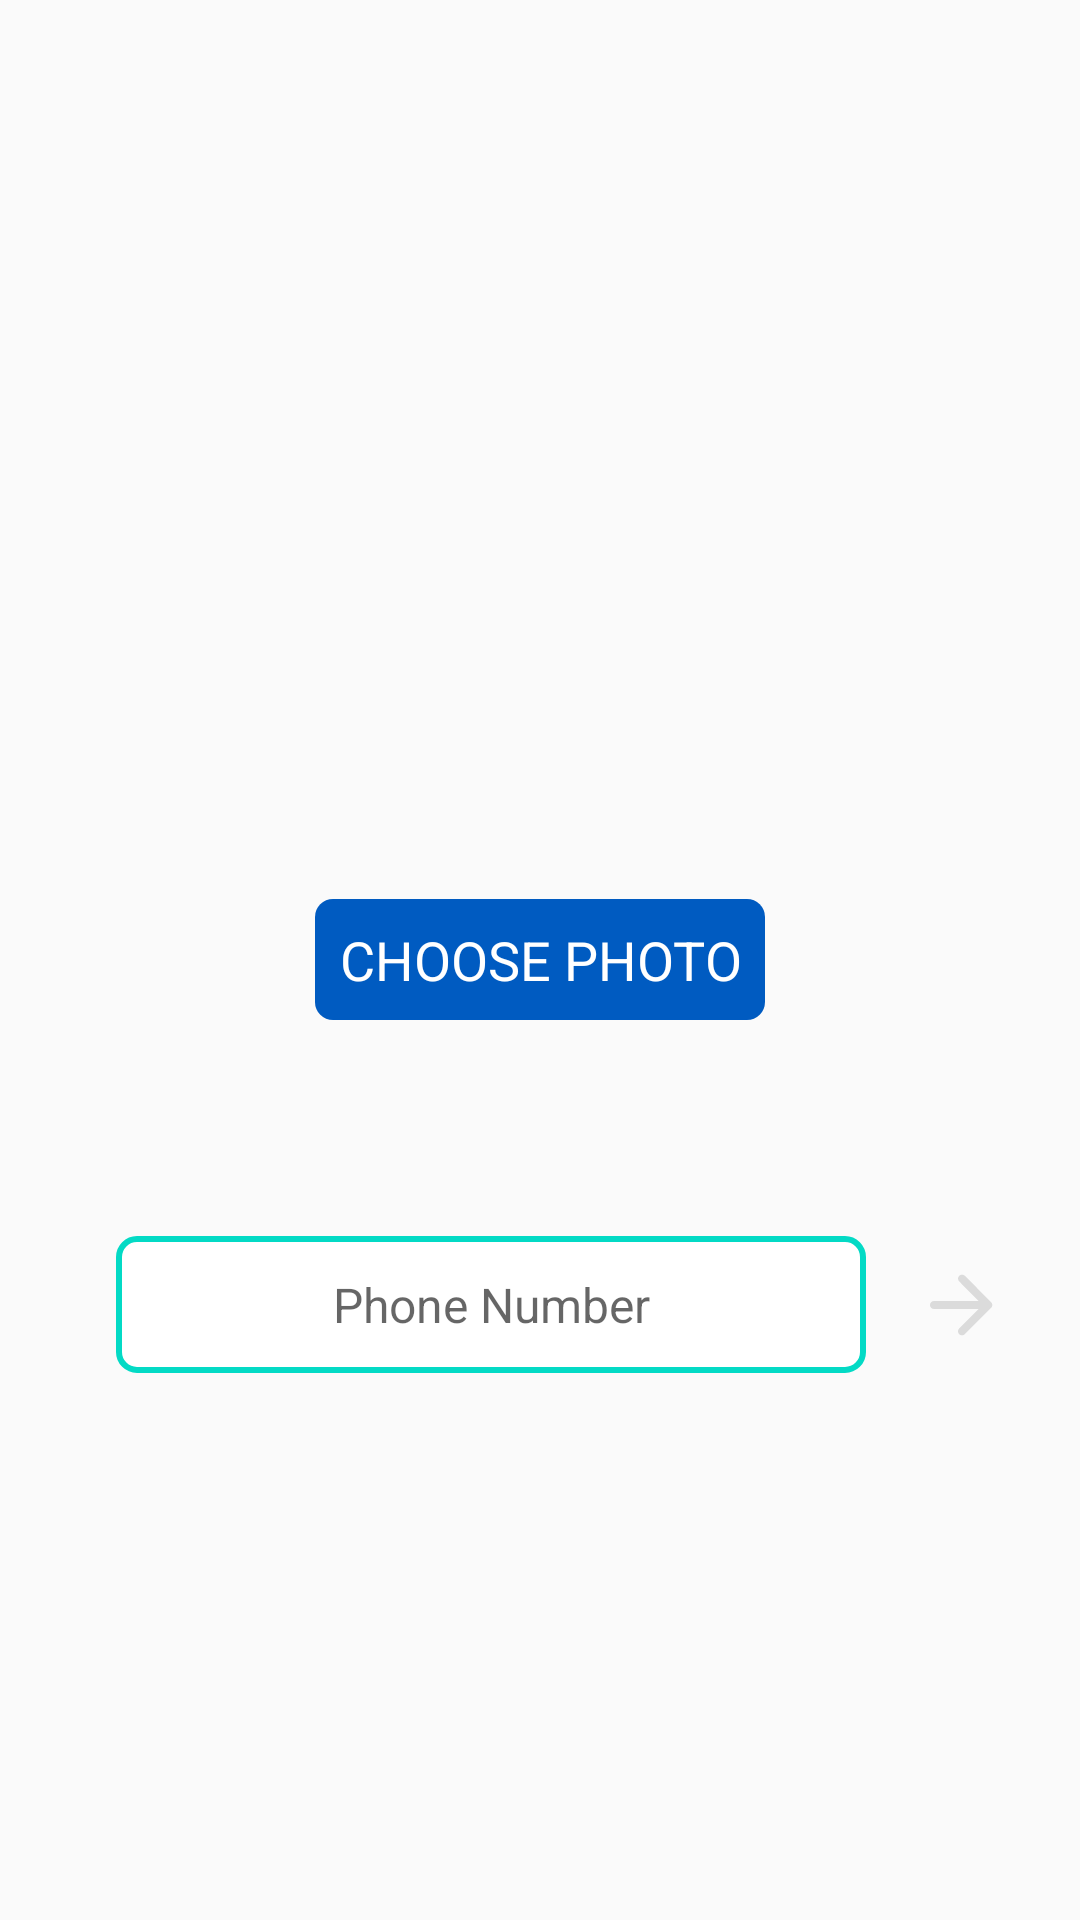

Screen size 1080 x 1920. Icon name, then its box in pixels as (x1, y1, x2, y2):
arrow forward: (930, 1275, 992, 1335)
